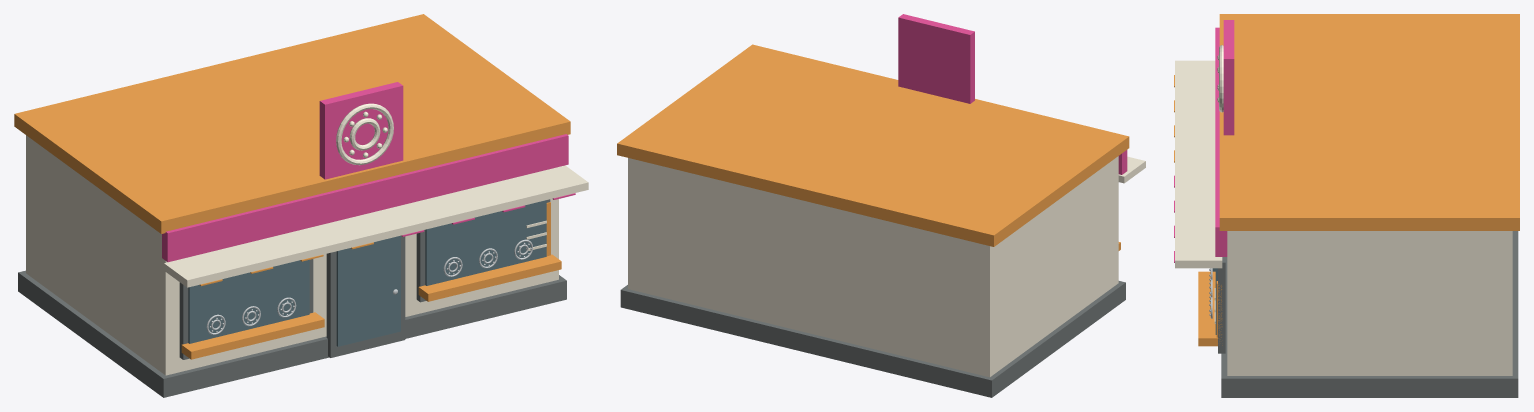
Rendered from krugers-kugellager.glb.
The picture shows the model from 3 angles, left to right: view 1: azimuth 30°, elevation 25°; view 2: azimuth 150°, elevation 25°; view 3: azimuth 270°, elevation 25°; orthographic projection. The views are drawn at different scales.
Visible parts, largest first — view 1: orange roof edge, warm masonry shell, serving glass, pink fascia, dark plinth.002, display bearing race; view 2: warm masonry shell, orange roof edge, dark plinth.002, pink fascia; view 3: orange roof edge, warm masonry shell, dark plinth.002, pink fascia.
Boxes of the visible parts, bbox=[...] form: orange roof edge: bbox=[14, 14, 570, 359]; warm masonry shell: bbox=[26, 103, 588, 375]; serving glass: bbox=[188, 200, 546, 346]; pink fascia: bbox=[162, 82, 575, 262]; dark plinth.002: bbox=[18, 199, 566, 397]; display bearing race: bbox=[206, 239, 532, 334]; warm masonry shell: bbox=[628, 156, 1145, 377]; orange roof edge: bbox=[617, 44, 1129, 250]; dark plinth.002: bbox=[620, 281, 1125, 397]; pink fascia: bbox=[898, 14, 1127, 174]; orange roof edge: bbox=[1174, 14, 1519, 346]; warm masonry shell: bbox=[1175, 45, 1512, 375]; dark plinth.002: bbox=[1218, 231, 1518, 397]; pink fascia: bbox=[1174, 20, 1234, 262].
Bounding box in the file's own units: 8.12 × 4.79 × 5.82.
